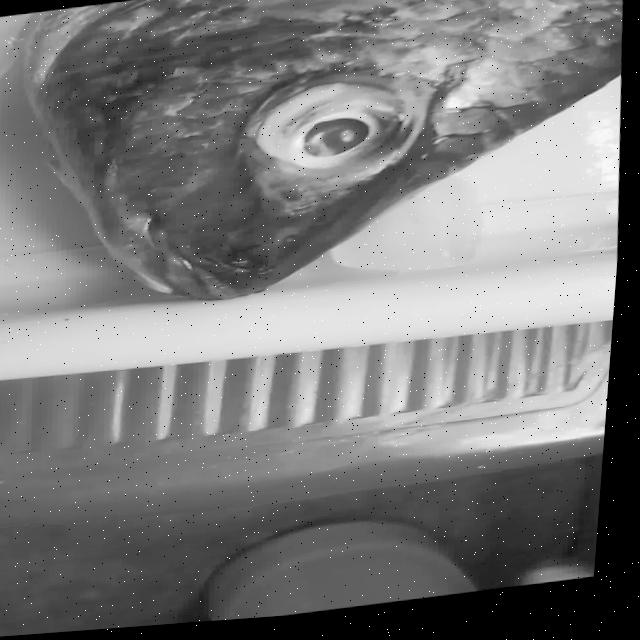Fresh: (256, 78, 439, 193)
